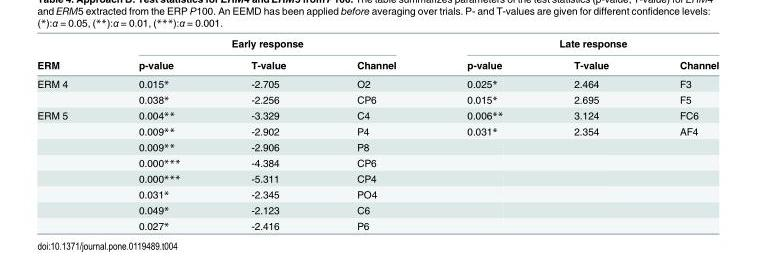table: (36, 36, 718, 231)
table column: (102, 36, 215, 231), (320, 36, 430, 231), (430, 36, 537, 231), (537, 36, 643, 231), (215, 36, 320, 231), (643, 36, 718, 231), (36, 36, 102, 231)
table column header: (36, 36, 718, 73)
table row: (36, 53, 718, 73), (36, 73, 718, 91), (36, 36, 718, 53), (36, 91, 718, 107), (36, 107, 718, 123), (36, 138, 718, 154), (36, 154, 718, 170), (36, 170, 718, 186), (36, 201, 718, 217), (36, 123, 718, 138), (36, 186, 718, 201), (36, 217, 718, 231)
table spanning cell: (36, 107, 102, 231), (102, 36, 430, 53), (430, 36, 718, 53), (36, 36, 102, 73), (36, 73, 102, 107)
